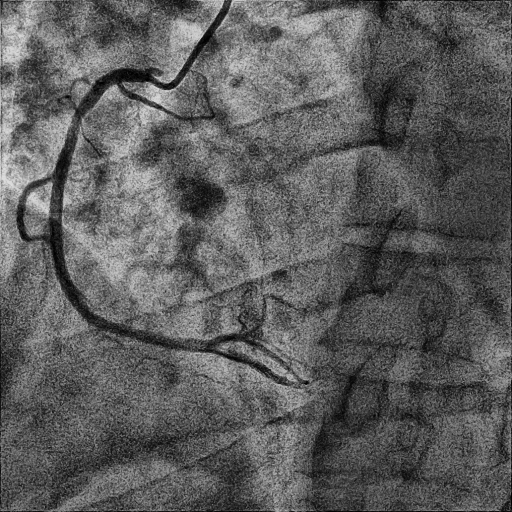pborca: (209, 335, 300, 382)
pda: (210, 346, 300, 388)
rca: (50, 67, 209, 353)
